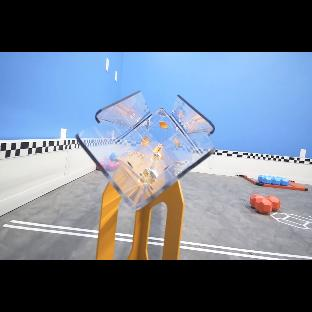V5_BLUE: (262, 176, 272, 184), (272, 177, 282, 185), (280, 178, 289, 186), (109, 153, 117, 161), (258, 175, 266, 183), (268, 176, 274, 178)
V5_RED: (255, 198, 272, 214), (265, 196, 280, 211), (249, 194, 263, 208), (107, 161, 117, 171)
